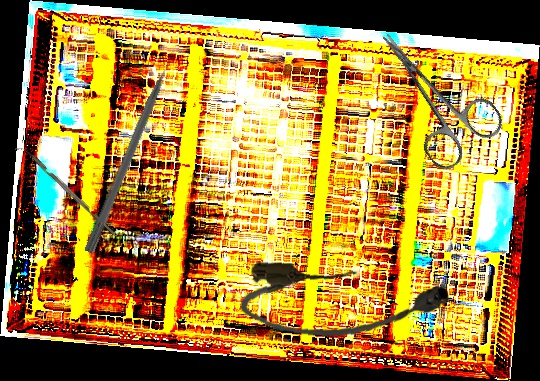Cannula: (238, 259, 452, 346)
Chopper: (14, 141, 116, 240)
Iris Scissors: (354, 7, 509, 176)
Pusher: (83, 46, 182, 255)
